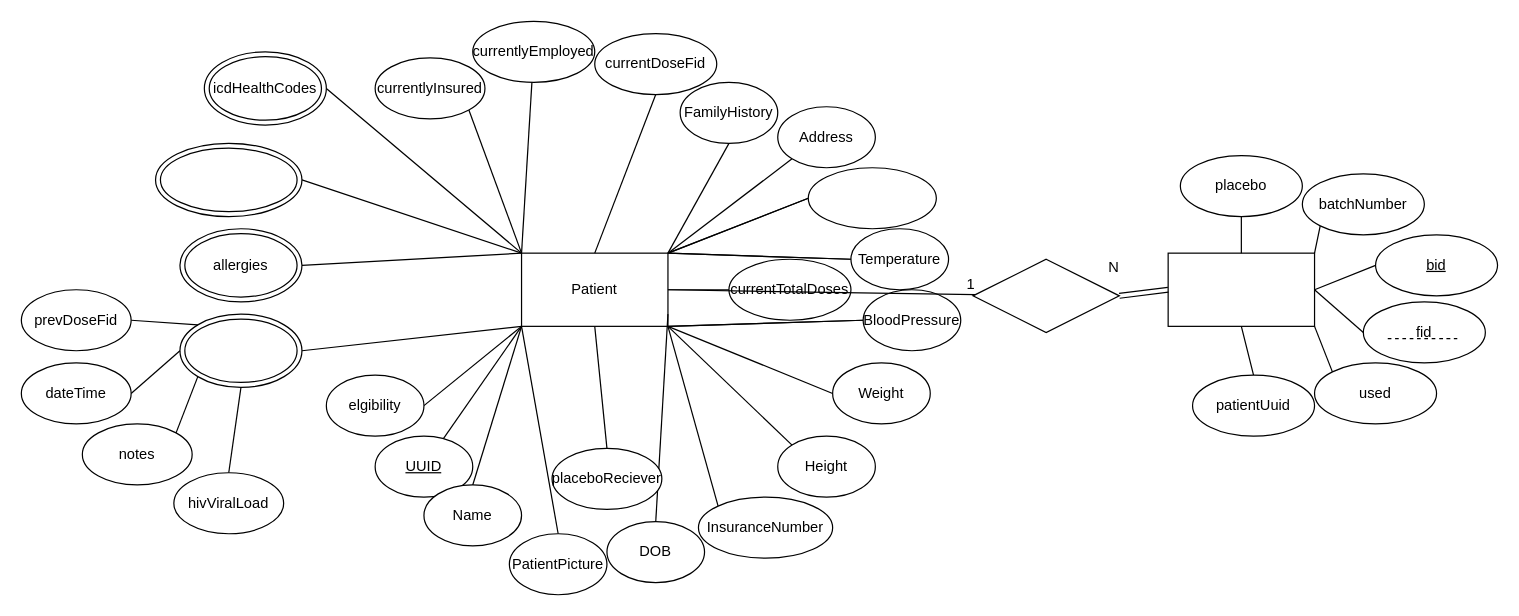
The diagram is 1519 pixels wide and 616 high, and some of its shapes have lost their labels. The shapes that lost their labels are listed below. From the top down, each one's box as (x1, y1, x2, y2) in pixels, then its label:
(154, 142, 302, 217): CurrentMedications
(807, 167, 936, 229): OxygenSaturation
(972, 258, 1119, 332): Takes
(1167, 252, 1315, 326): Drug
(179, 313, 302, 387): visits
